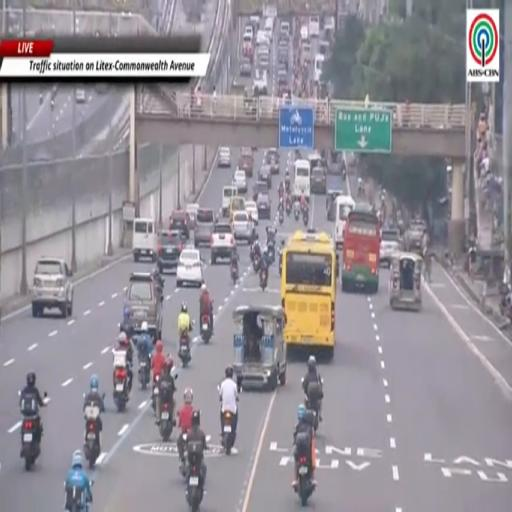bus: (281, 231, 339, 358), (342, 204, 380, 294), (334, 196, 355, 248)
car: (125, 272, 163, 340), (32, 258, 73, 317), (158, 230, 186, 273), (211, 221, 235, 264), (177, 248, 203, 286), (380, 229, 401, 266), (195, 208, 214, 247), (232, 212, 251, 242), (170, 211, 190, 239), (238, 148, 254, 178), (311, 167, 326, 194), (256, 192, 270, 219), (233, 169, 247, 194), (186, 203, 199, 229), (265, 149, 279, 173), (258, 165, 272, 188), (253, 181, 268, 202), (246, 201, 258, 225), (239, 56, 252, 77), (218, 147, 231, 167), (257, 54, 270, 72), (278, 47, 289, 63), (75, 87, 86, 103), (278, 62, 288, 74)
motorcycle: (84, 404, 100, 470), (21, 416, 40, 471), (21, 418, 40, 471), (186, 455, 203, 511), (113, 350, 128, 411), (297, 456, 314, 506), (65, 484, 91, 511), (113, 367, 128, 411), (304, 394, 319, 433), (222, 411, 235, 455), (304, 396, 319, 433), (159, 403, 173, 442), (138, 353, 150, 390), (179, 332, 191, 367), (180, 432, 188, 477), (201, 314, 211, 343), (152, 376, 159, 411), (267, 242, 275, 263), (260, 268, 267, 291), (231, 264, 238, 284), (253, 253, 260, 273), (278, 250, 283, 275), (286, 197, 292, 216), (294, 206, 300, 220), (303, 210, 308, 226), (279, 210, 284, 225), (285, 180, 290, 193)
